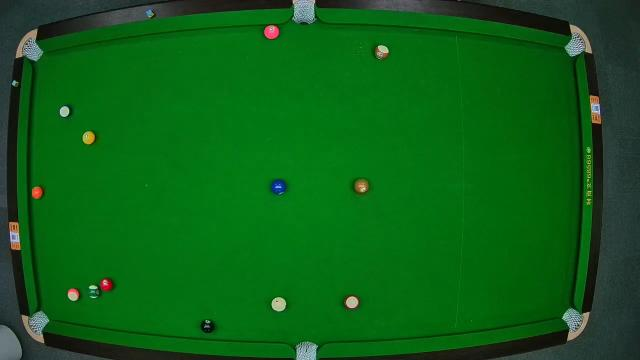bag1: (22, 38, 42, 60)
bag2: (294, 0, 316, 26)
bag3: (567, 34, 587, 56)
bag4: (28, 308, 48, 336)
bag5: (294, 340, 318, 360)
bag6: (564, 308, 584, 330)
ball0: (272, 298, 286, 312)
ball1: (80, 130, 96, 144)
ball10: (58, 105, 72, 120)
ball11: (344, 294, 361, 310)
ball12: (66, 288, 80, 302)
ball14: (88, 285, 100, 299)
ball15: (374, 46, 391, 61)
ball2: (270, 178, 288, 196)
ball3: (100, 278, 112, 292)
ball4: (264, 24, 282, 40)
ball5: (30, 185, 44, 199)
ball7: (352, 178, 370, 195)
ball8: (201, 318, 215, 334)
